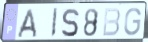8: (83, 7, 100, 38)
A: (16, 8, 38, 39)
B: (101, 7, 122, 38)
G: (123, 7, 143, 38)
I: (49, 7, 59, 39)
S: (60, 7, 80, 38)
